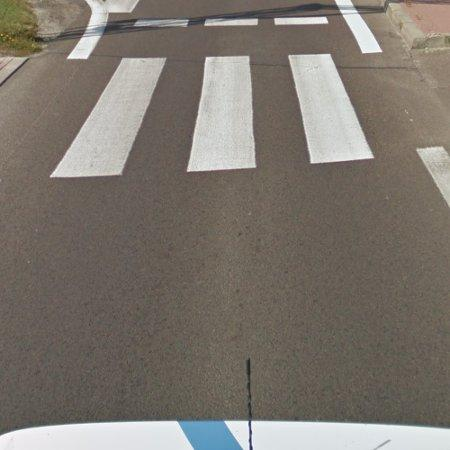crosswalks: (45, 51, 377, 177)
